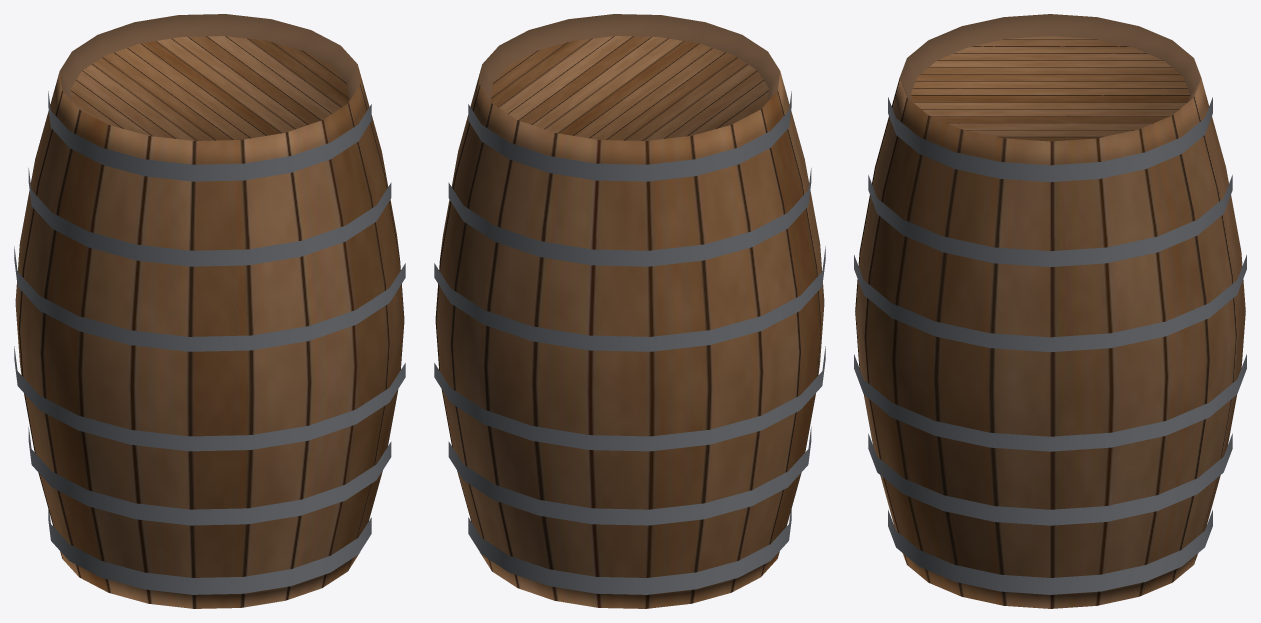
Rendered from wine_barrel.glb.
The picture shows the model from 3 angles, left to right: view 1: azimuth 30°, elevation 25°; view 2: azimuth 150°, elevation 25°; view 3: azimuth 270°, elevation 25°; orthographic projection.
Visible parts, largest first — view 1: WineBarrel_Oak, WineBarrel_Hoops; view 2: WineBarrel_Oak, WineBarrel_Hoops; view 3: WineBarrel_Oak, WineBarrel_Hoops.
Part boxes in pixels (x1,y1,x2,y2): WineBarrel_Oak: (15,14,404,608); WineBarrel_Hoops: (14,91,405,594); WineBarrel_Oak: (435,14,824,608); WineBarrel_Hoops: (434,91,825,594); WineBarrel_Oak: (855,14,1245,608); WineBarrel_Hoops: (854,97,1246,594).
Bounding box in the file's own units: 0.716 × 0.94 × 0.716.
2 materials, 1 textured.
